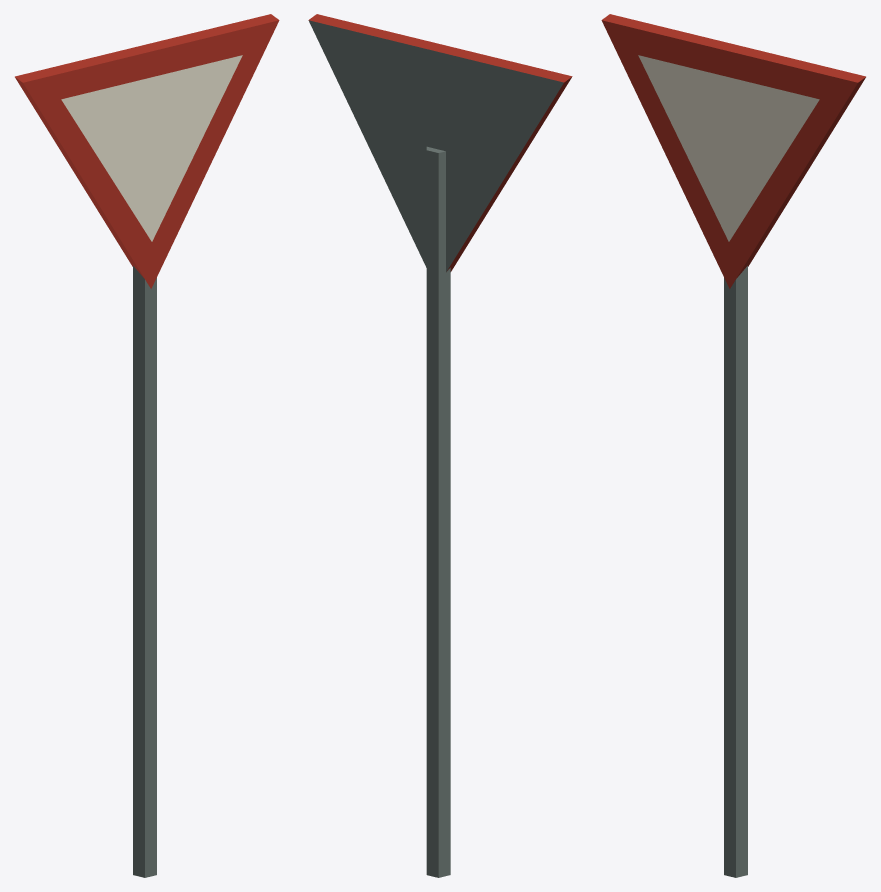
The model's file is YieldSign.obj.
3 renders of one model, left to right at view 1: azimuth 30°, elevation 25°; view 2: azimuth 150°, elevation 25°; view 3: azimuth 330°, elevation 25°, orthographic.
Parts seen in each view (by area): view 1: YieldSign; view 2: YieldSign; view 3: YieldSign.
Boxes of the visible parts, x1,y1,x2,y2 form: YieldSign: [15, 14, 279, 877]; YieldSign: [308, 14, 572, 877]; YieldSign: [601, 14, 865, 877].
Bounding box in the file's own units: 0.96 × 2.95 × 0.084.
